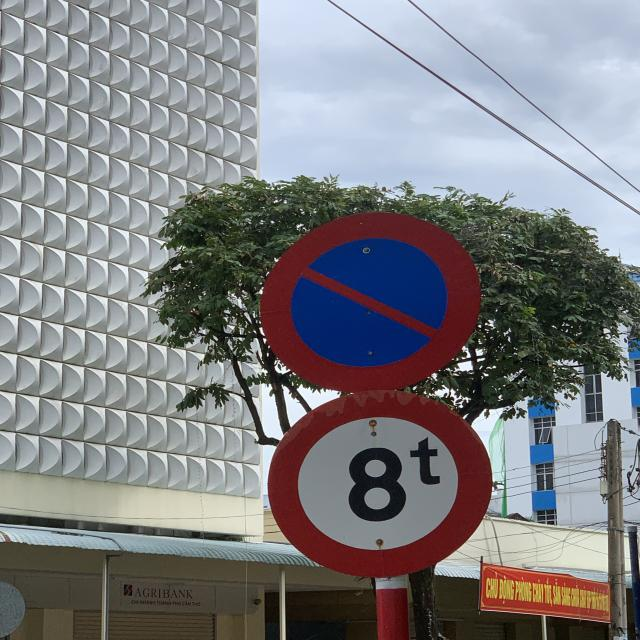Cam_Dau_Xe: (262, 212, 479, 392)
